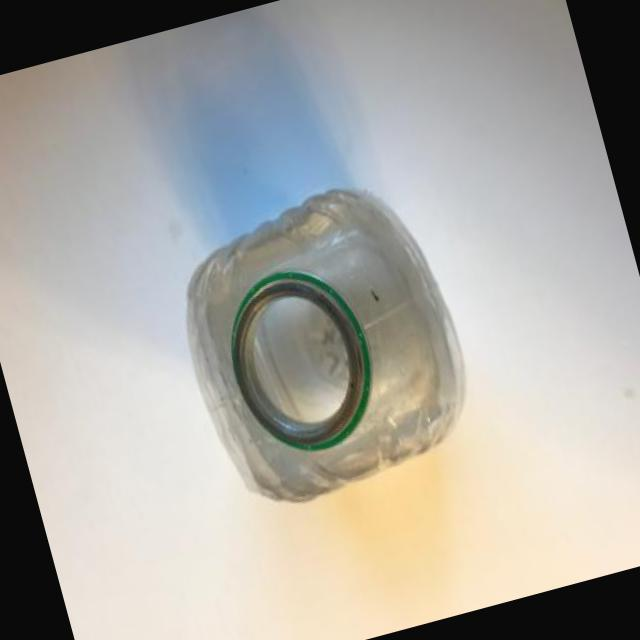Recycle: (159, 168, 489, 522)
